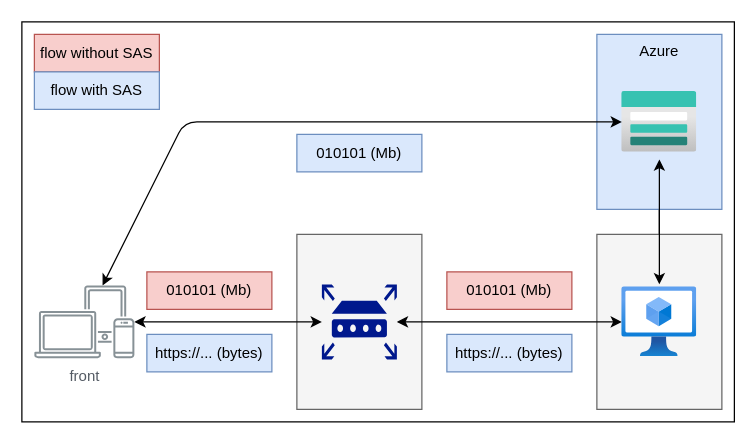
Image size: 756x444. Some labels were removed from this diagram. The centre of each missing label's shape, as x and y in pixels:
Router: the point at 358,321
System: the point at 658,321
